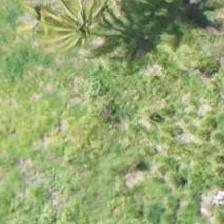coconut_tree: (39, 0, 129, 72)
